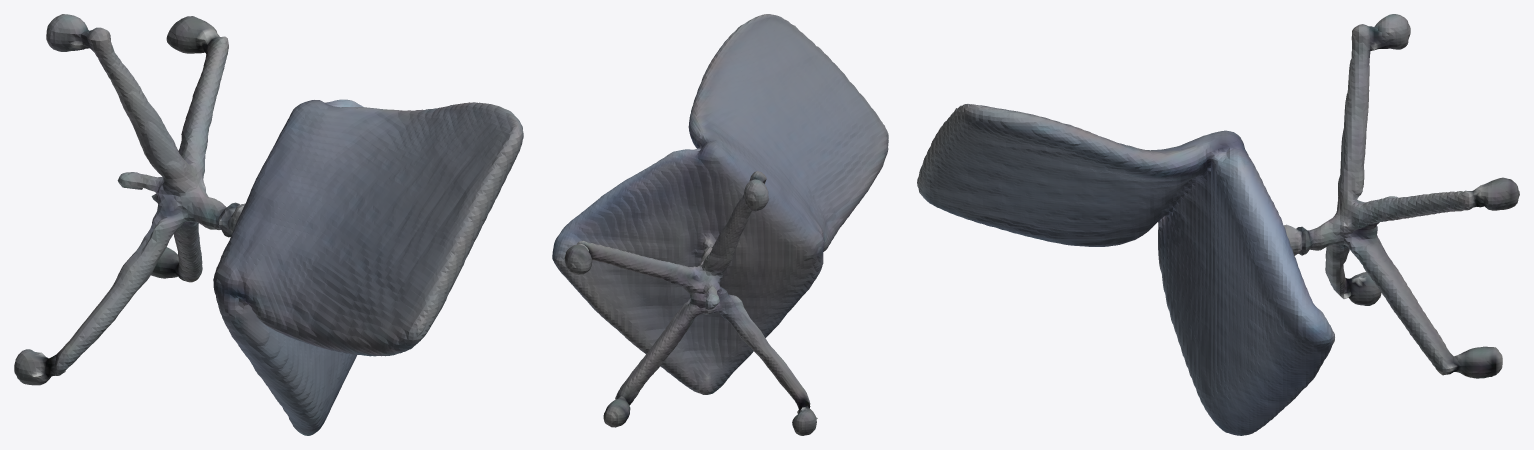
The picture shows the model from 3 angles, left to right: view 1: azimuth 30°, elevation 25°; view 2: azimuth 150°, elevation 25°; view 3: azimuth 270°, elevation 25°; orthographic projection. The views are drawn at different scales.
Parts seen in each view (by area): view 1: world; view 2: world; view 3: world.
Part boxes in pixels (box(x1,y1,x2,y2)): world: box(14, 14, 523, 435); world: box(552, 14, 888, 435); world: box(917, 14, 1519, 435).
Bounding box in the file's own units: 0.7216 × 0.7099 × 1.08.
